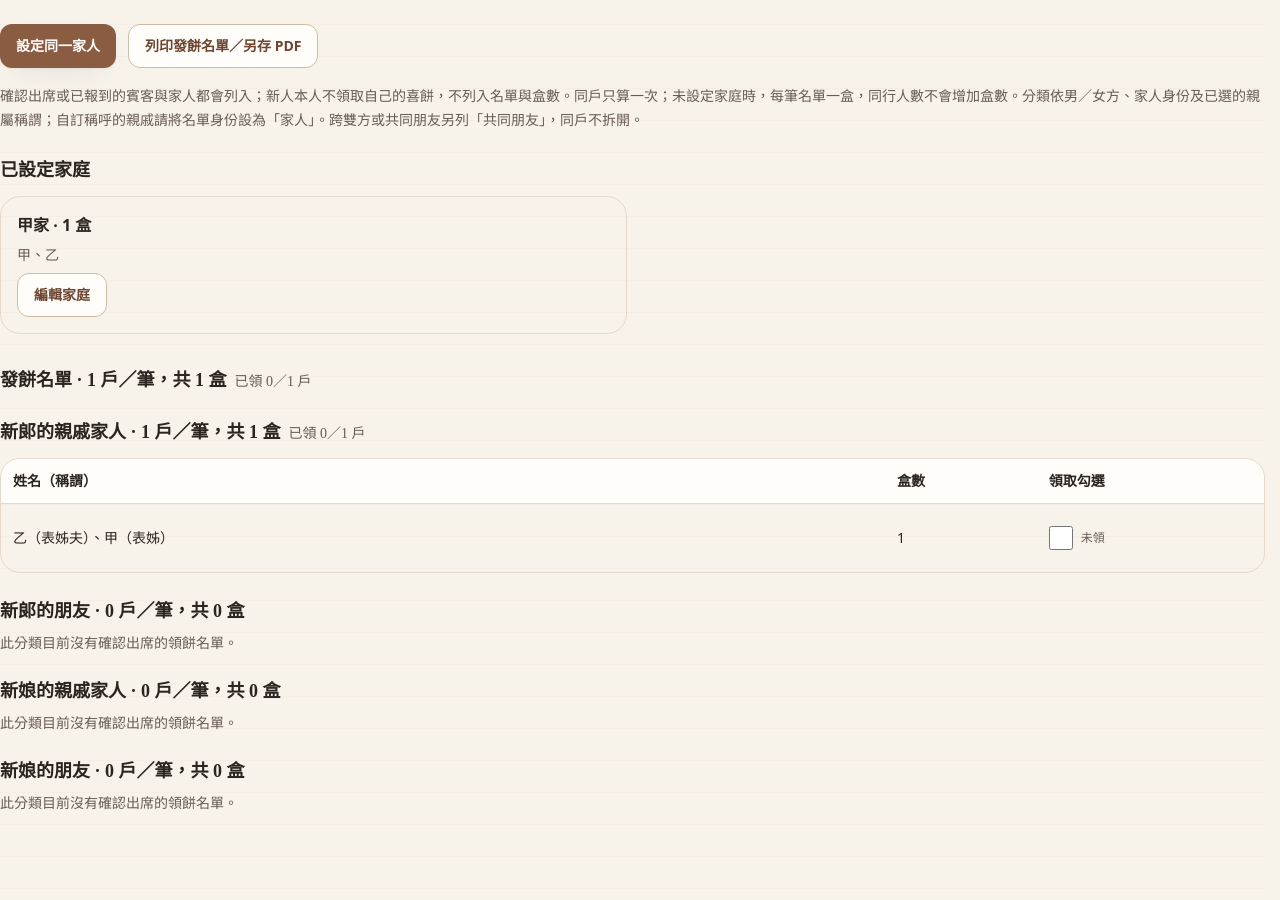
Scenario: excludes newlyweds from the preview and household member picker
This screenshot has width=1280, height=900.
Click the button with aria-label "編輯家庭 甲家" at (62, 295), box [17,273,107,317]
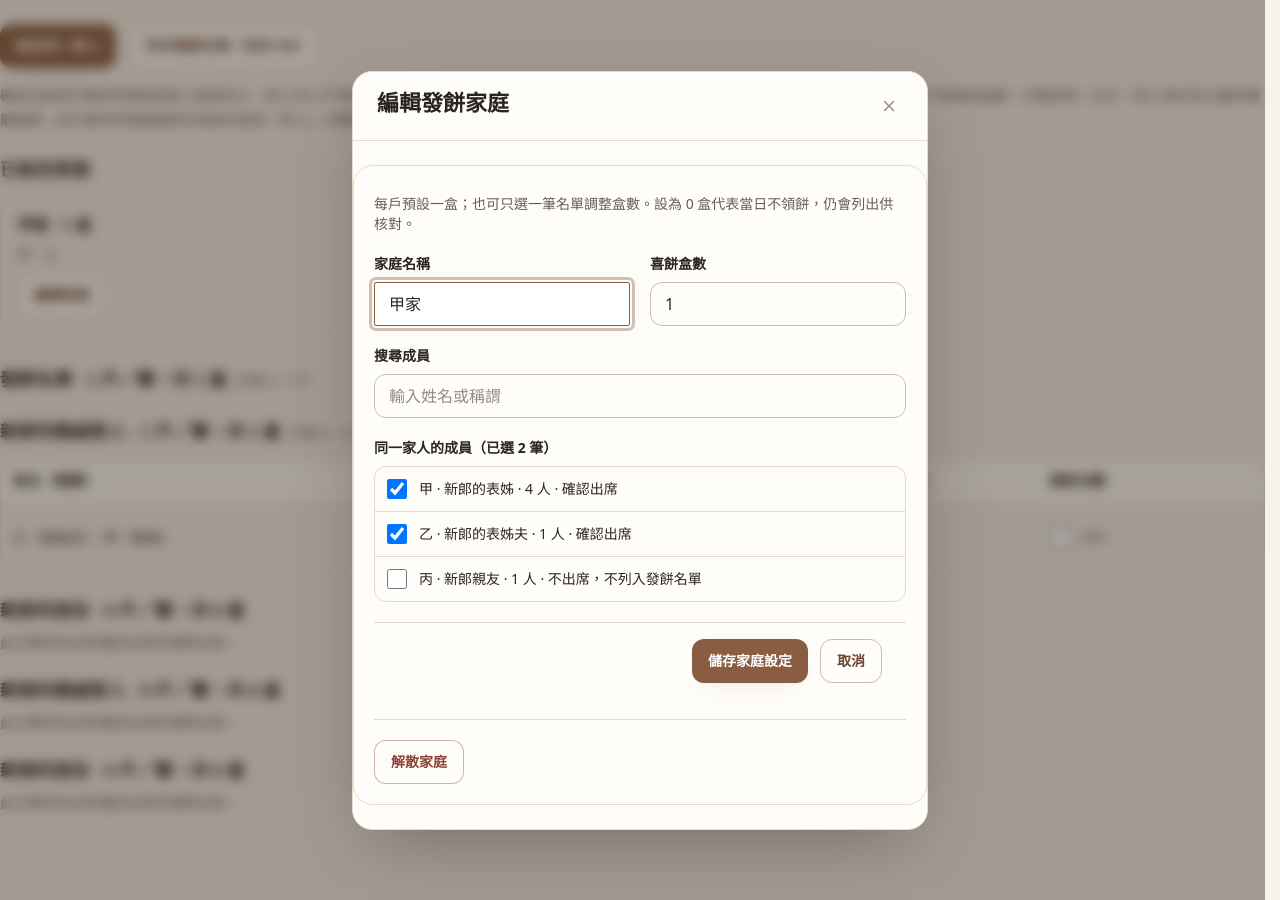
Result: the text "同一家人的成員（已選 2 筆）" is shown at [374,438,557,458]
